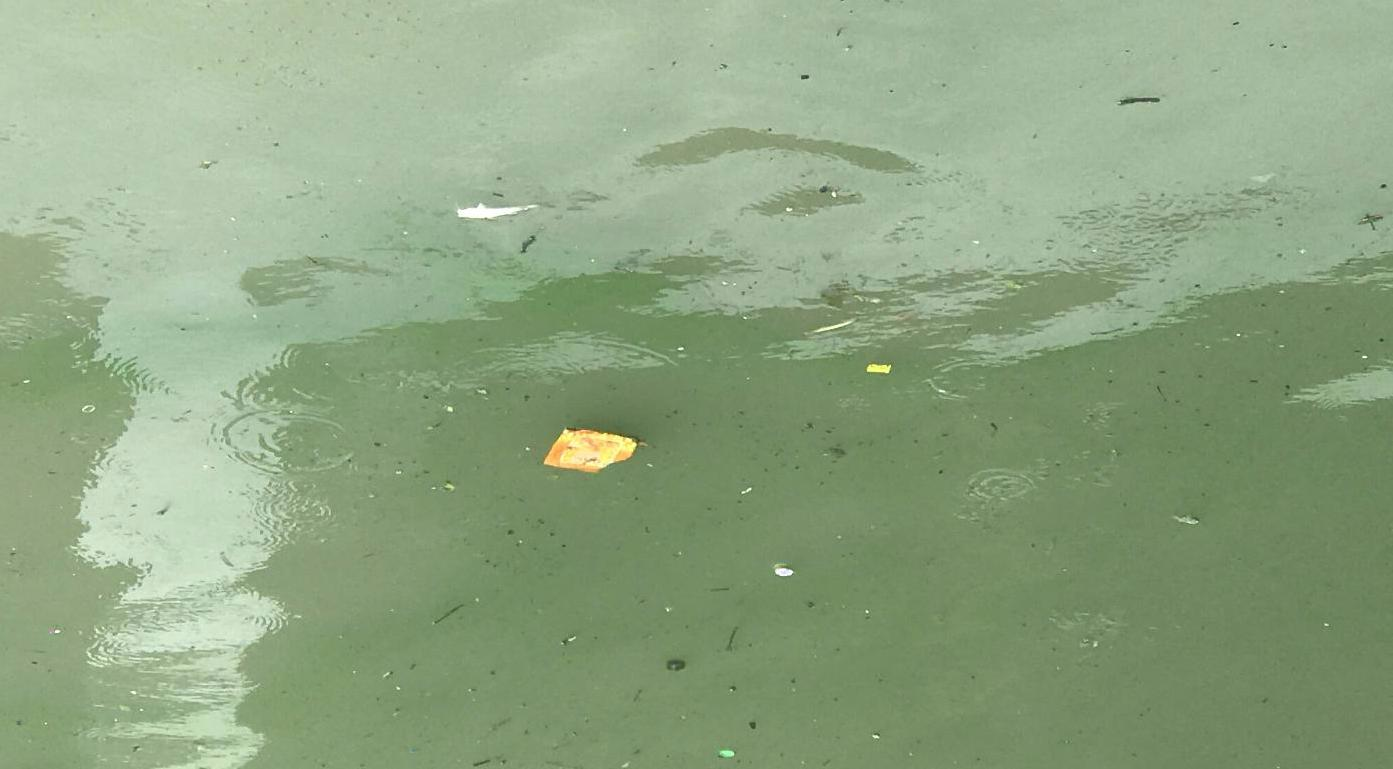Plastic: (541, 426, 644, 477)
Trash: (455, 193, 543, 222), (863, 352, 893, 380), (766, 564, 797, 588)
